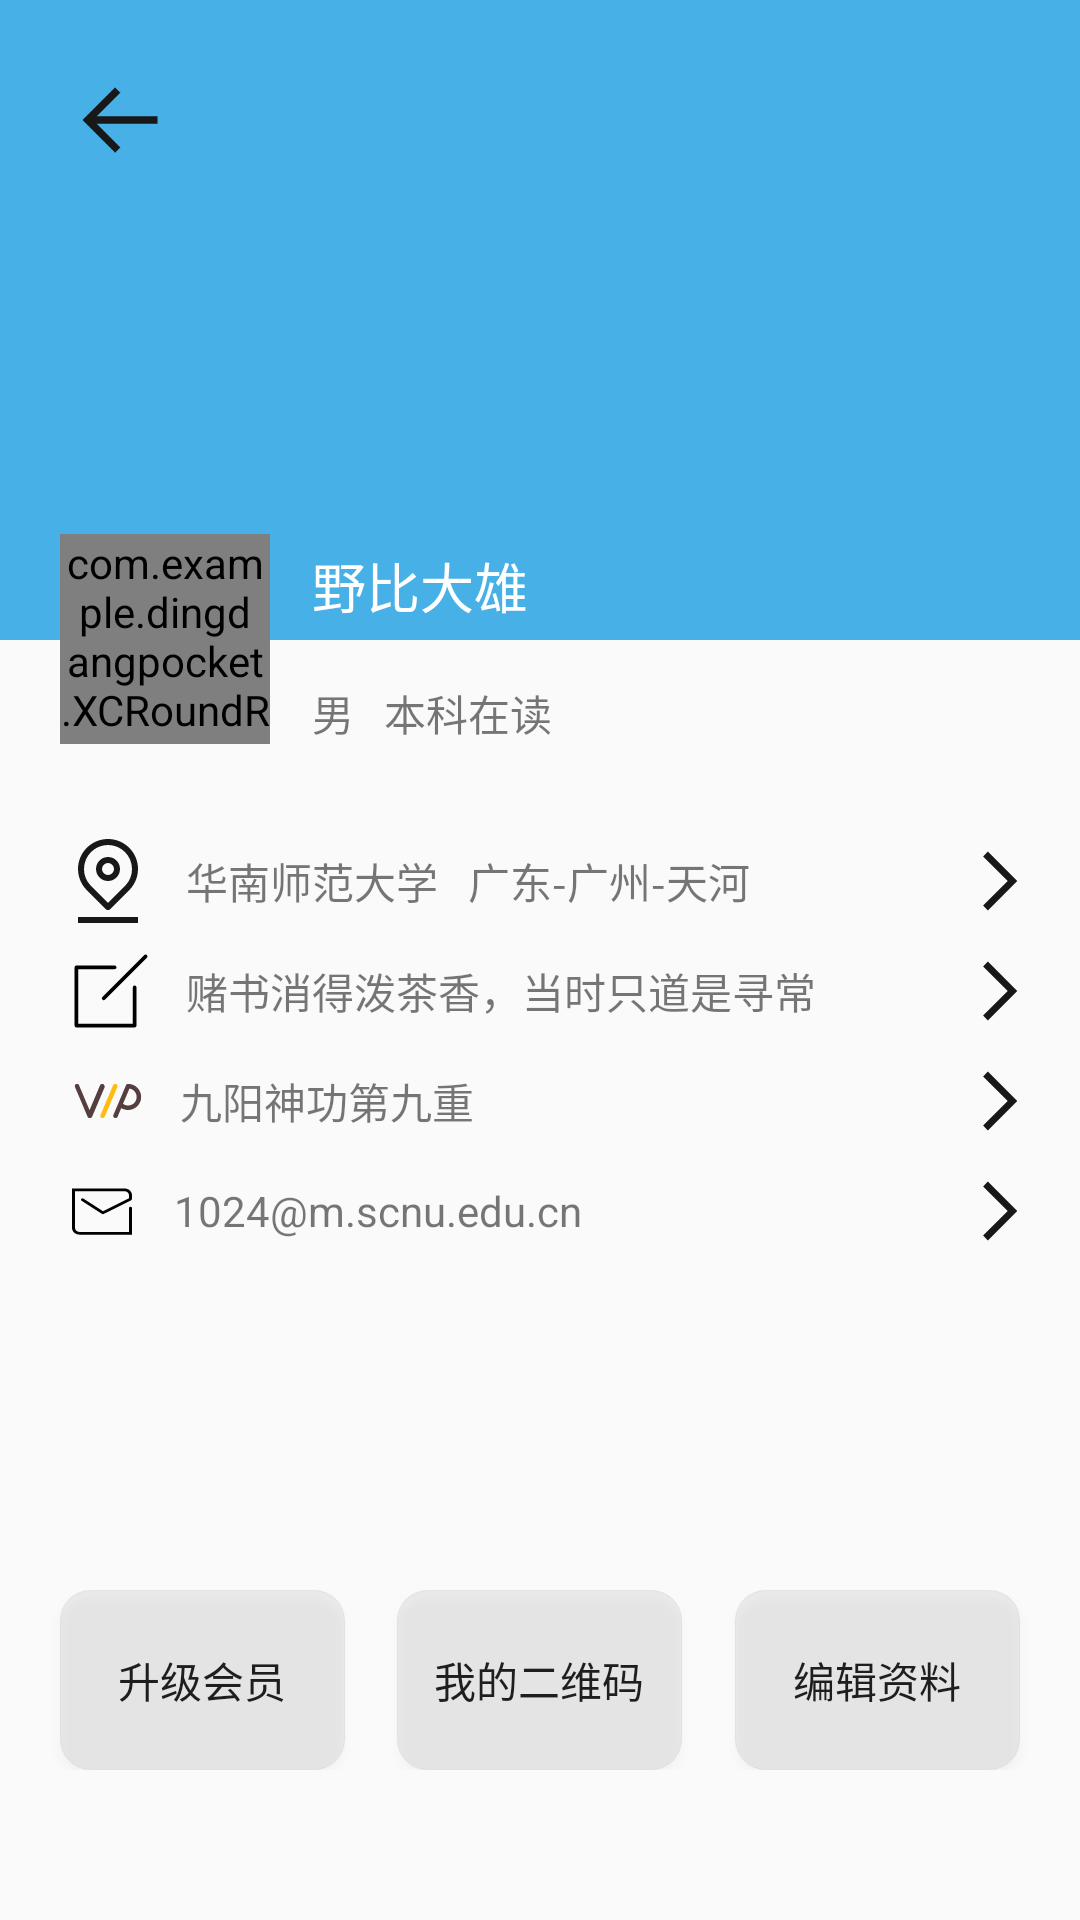

Icons on this 1080px x 1920px Android screen, each with its box as BBox(x1, y1, x2, y2):
back: BBox(83, 87, 158, 153)
